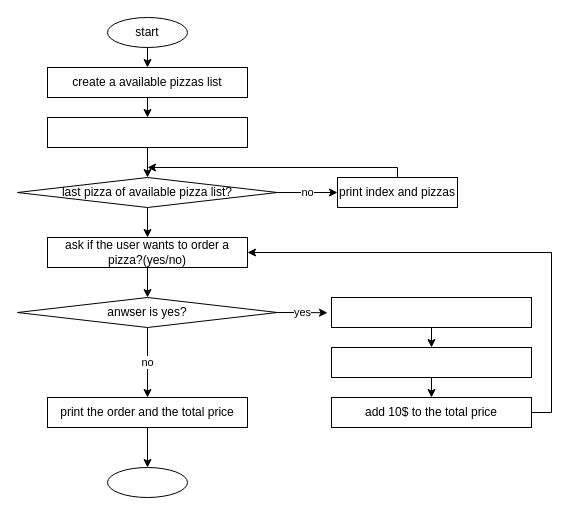
This 577x515 diagram has some shape labels left out. Here are the shapes that lost their labels. From the top down, the centre of each, then its label:
At (x=147, y=132): "create an empty order list".
At (x=431, y=312): "ask for a pizzas (number)".
At (x=431, y=362): "get pizza from available list and add it to the order list".
At (x=147, y=482): "end".
